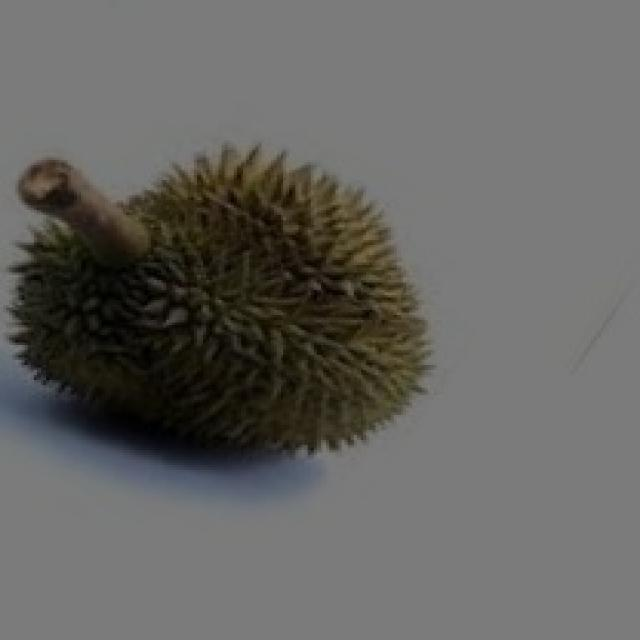fruit: (3, 98, 419, 508)
